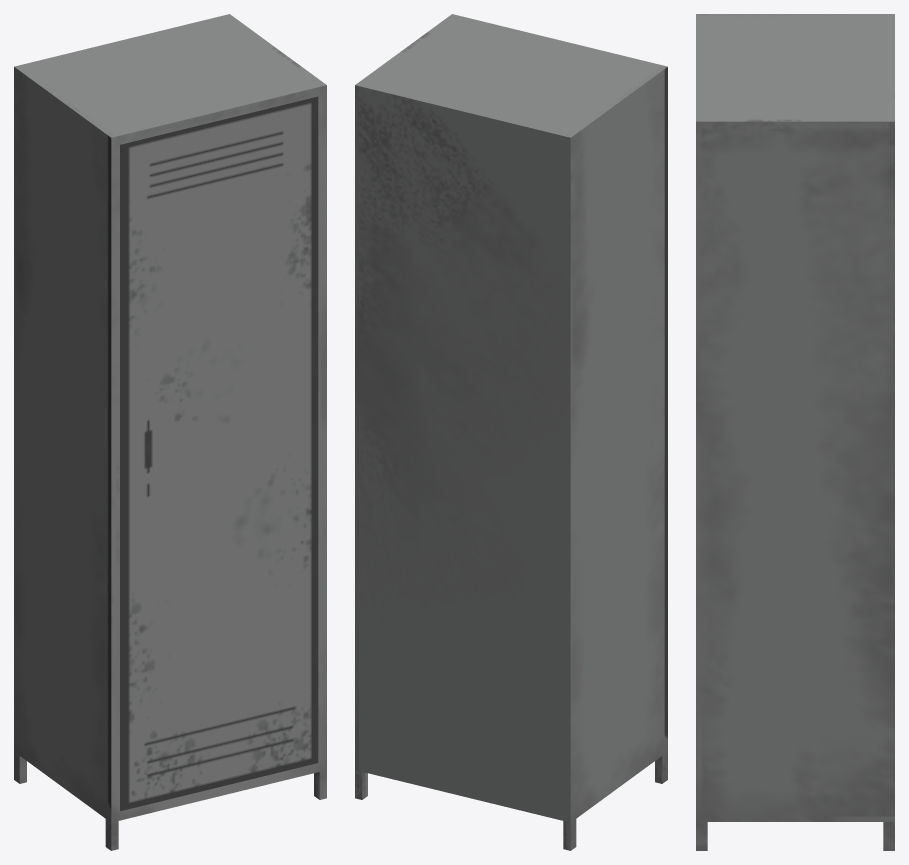
Rendered from env_locker.fbx.
The picture shows the model from 3 angles, left to right: view 1: azimuth 30°, elevation 25°; view 2: azimuth 150°, elevation 25°; view 3: azimuth 270°, elevation 25°; orthographic projection. The views are drawn at different scales.
Visible parts, largest first — view 1: Cube.003, Cube.001; view 2: Cube.001; view 3: Cube.001.
Part boxes in pixels (x1,y1,x2,y2): Cube.003: [120, 96, 318, 811]; Cube.001: [14, 14, 326, 850]; Cube.001: [355, 14, 667, 850]; Cube.001: [696, 14, 894, 850].
Bounding box in the file's own units: 65.44 × 207 × 51.07.
1 material, 1 textured.
